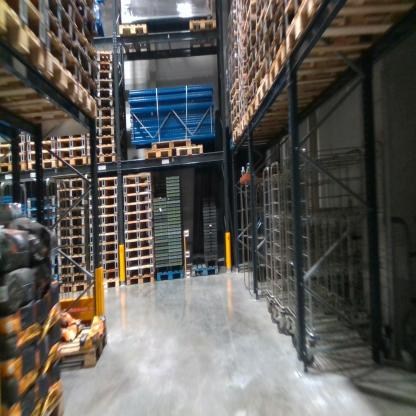pallet: (283, 2, 408, 55), (5, 50, 78, 107), (0, 2, 46, 88), (271, 43, 352, 88), (2, 83, 98, 117), (257, 71, 334, 104), (52, 328, 106, 375), (228, 119, 294, 147), (3, 2, 45, 43), (44, 5, 78, 55), (183, 14, 221, 56), (247, 96, 316, 117), (119, 20, 156, 59), (40, 35, 76, 75), (36, 2, 76, 33), (267, 2, 289, 49), (251, 22, 274, 64), (76, 28, 98, 71), (240, 115, 294, 132), (35, 389, 67, 415), (155, 258, 185, 285), (148, 136, 190, 154), (72, 16, 94, 50), (189, 258, 222, 280), (253, 55, 272, 89), (252, 36, 269, 73), (269, 27, 285, 65), (284, 4, 304, 34), (77, 53, 97, 83), (124, 269, 157, 287), (73, 2, 94, 29), (77, 72, 97, 100), (54, 0, 77, 23), (244, 2, 260, 34), (176, 144, 207, 160), (125, 210, 152, 228), (264, 1, 282, 28), (89, 279, 120, 294), (56, 137, 85, 153), (122, 171, 152, 186), (123, 192, 152, 207), (57, 149, 87, 163), (89, 173, 119, 187), (89, 259, 119, 273), (0, 153, 26, 169), (22, 129, 56, 141), (27, 159, 56, 173), (54, 131, 85, 144), (55, 198, 86, 211), (58, 283, 91, 295), (253, 2, 268, 28), (125, 230, 154, 243), (185, 222, 191, 284), (124, 258, 156, 269), (86, 187, 118, 198), (1, 162, 26, 176), (85, 135, 114, 147), (84, 146, 115, 157), (58, 236, 84, 249), (58, 176, 84, 189), (142, 148, 175, 158), (123, 223, 153, 234), (24, 141, 57, 151), (54, 155, 87, 165), (92, 48, 117, 61), (125, 265, 154, 276), (122, 186, 151, 197), (88, 207, 117, 218), (254, 13, 267, 37), (80, 155, 119, 163), (86, 117, 112, 129), (2, 132, 24, 146), (84, 250, 118, 259), (124, 240, 154, 250), (122, 204, 152, 214), (244, 20, 254, 50), (56, 265, 86, 275), (89, 224, 116, 235), (57, 218, 84, 229), (87, 198, 119, 207), (244, 84, 257, 105), (237, 89, 247, 116), (88, 235, 121, 243), (84, 243, 121, 250), (56, 257, 88, 265), (227, 25, 238, 48), (25, 151, 56, 159), (58, 189, 85, 198), (96, 87, 118, 98), (86, 272, 120, 279), (229, 92, 239, 115), (1, 145, 24, 155), (228, 53, 236, 81), (240, 4, 250, 26), (125, 250, 152, 258), (242, 69, 251, 93), (58, 275, 85, 283), (57, 249, 87, 256), (245, 39, 253, 65), (227, 38, 236, 61), (55, 211, 84, 218), (226, 46, 236, 66), (57, 229, 84, 236), (228, 71, 238, 89), (89, 73, 114, 80), (235, 36, 244, 55), (86, 129, 114, 135), (88, 218, 116, 224), (227, 16, 238, 31), (96, 63, 114, 72), (238, 56, 245, 79), (96, 77, 112, 87), (229, 115, 238, 132), (227, 5, 237, 20), (239, 78, 245, 102), (227, 83, 236, 99), (96, 108, 112, 117), (94, 99, 118, 105), (237, 69, 244, 89), (238, 16, 244, 36), (240, 106, 246, 126), (231, 108, 237, 125), (236, 2, 243, 15), (236, 51, 242, 64), (247, 57, 252, 72)
